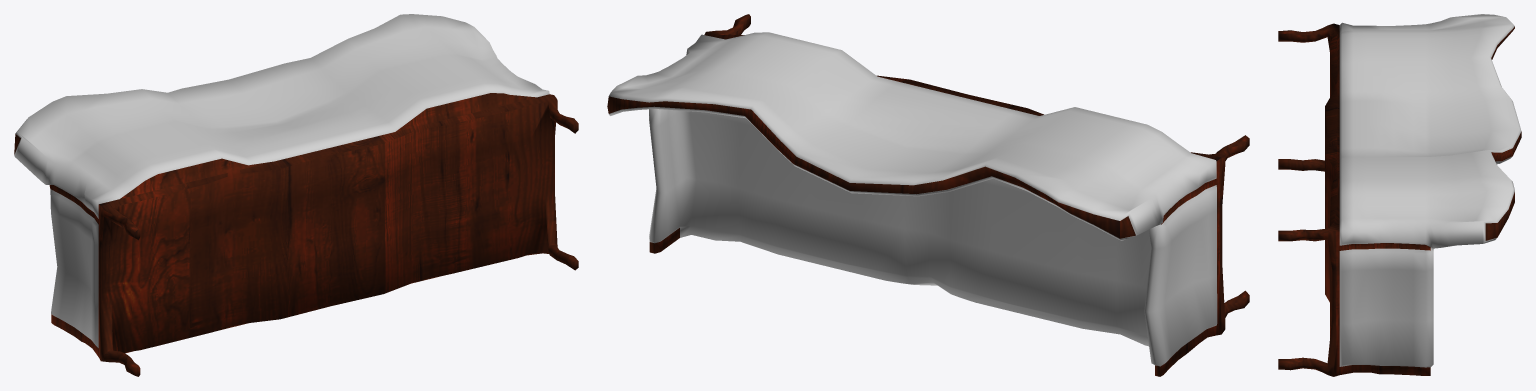
File: sofa.fbx
3 renders of one model, left to right at view 1: azimuth 30°, elevation 25°; view 2: azimuth 150°, elevation 25°; view 3: azimuth 270°, elevation 25°, orthographic. The views are drawn at different scales.
Parts seen in each view (by area): view 1: Sofa; view 2: Sofa; view 3: Sofa.
Boxes of the visible parts, <box> form: Sofa: <box>14,14,578,376</box>; Sofa: <box>607,14,1249,376</box>; Sofa: <box>1278,14,1521,376</box>.
Bounding box in the file's own units: 2.06 × 0.7657 × 0.99.
